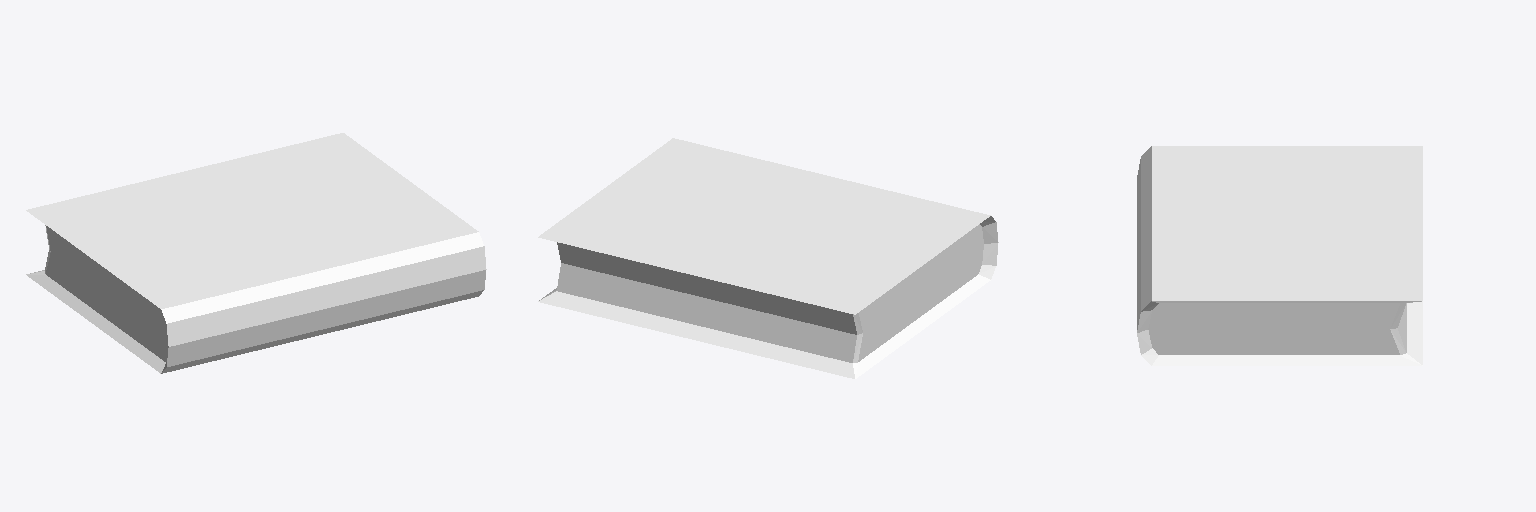
Rendered from Book14.obj.
3 views of the same model, side by side, from view 1: azimuth 30°, elevation 25°; view 2: azimuth 150°, elevation 25°; view 3: azimuth 270°, elevation 25° (orthographic).
Parts seen in each view (by area): view 1: Book2:pCube1_pCube1_Book2:pCube1_pCube1_1001; view 2: Book2:pCube1_pCube1_Book2:pCube1_pCube1_1001; view 3: Book2:pCube1_pCube1_Book2:pCube1_pCube1_1001.
Part boxes in pixels (x1,y1,x2,y2): Book2:pCube1_pCube1_Book2:pCube1_pCube1_1001: (26,133,486,373); Book2:pCube1_pCube1_Book2:pCube1_pCube1_1001: (538,138,998,378); Book2:pCube1_pCube1_Book2:pCube1_pCube1_1001: (1137,146,1422,365).
Size of the model in its own units: 8.6 by 1.67 by 6.71.